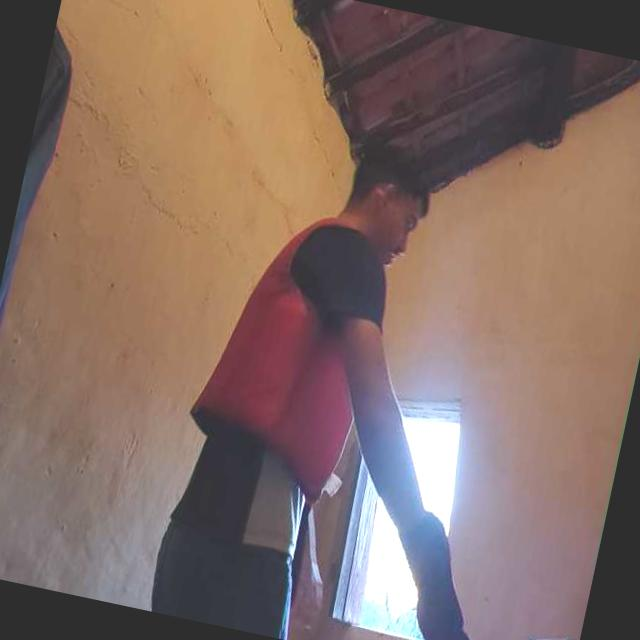capacete: (510, 621, 580, 640)
colete: (206, 191, 386, 500)
pessoa: (158, 119, 535, 640)
